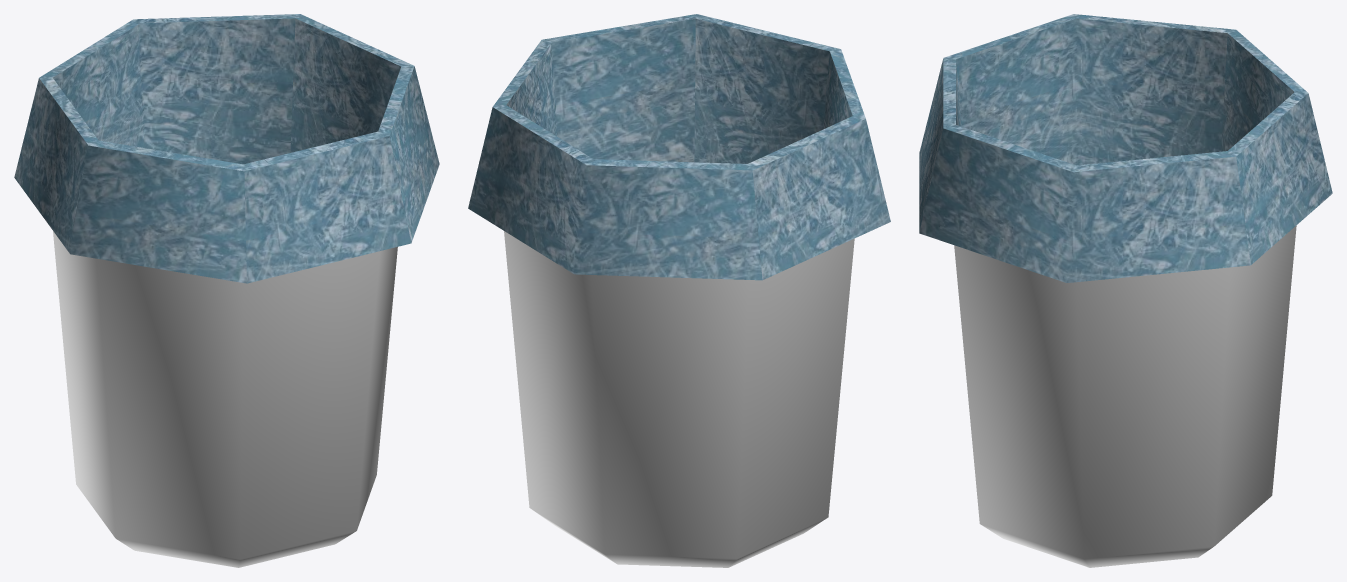
File: Trash_can_01.glb
3 renders of one model, left to right at view 1: azimuth 30°, elevation 25°; view 2: azimuth 150°, elevation 25°; view 3: azimuth 270°, elevation 25°, orthographic.
Visible parts, largest first — view 1: Trash_can_01; view 2: Trash_can_01; view 3: Trash_can_01.
Boxes of the visible parts, box(x1,y1,x2,y2) form: Trash_can_01: box(14, 14, 439, 567); Trash_can_01: box(468, 14, 890, 567); Trash_can_01: box(919, 14, 1332, 567).
Size of the model in its own units: 0.5538 by 0.6095 by 0.5399.
2 materials, 1 textured.
